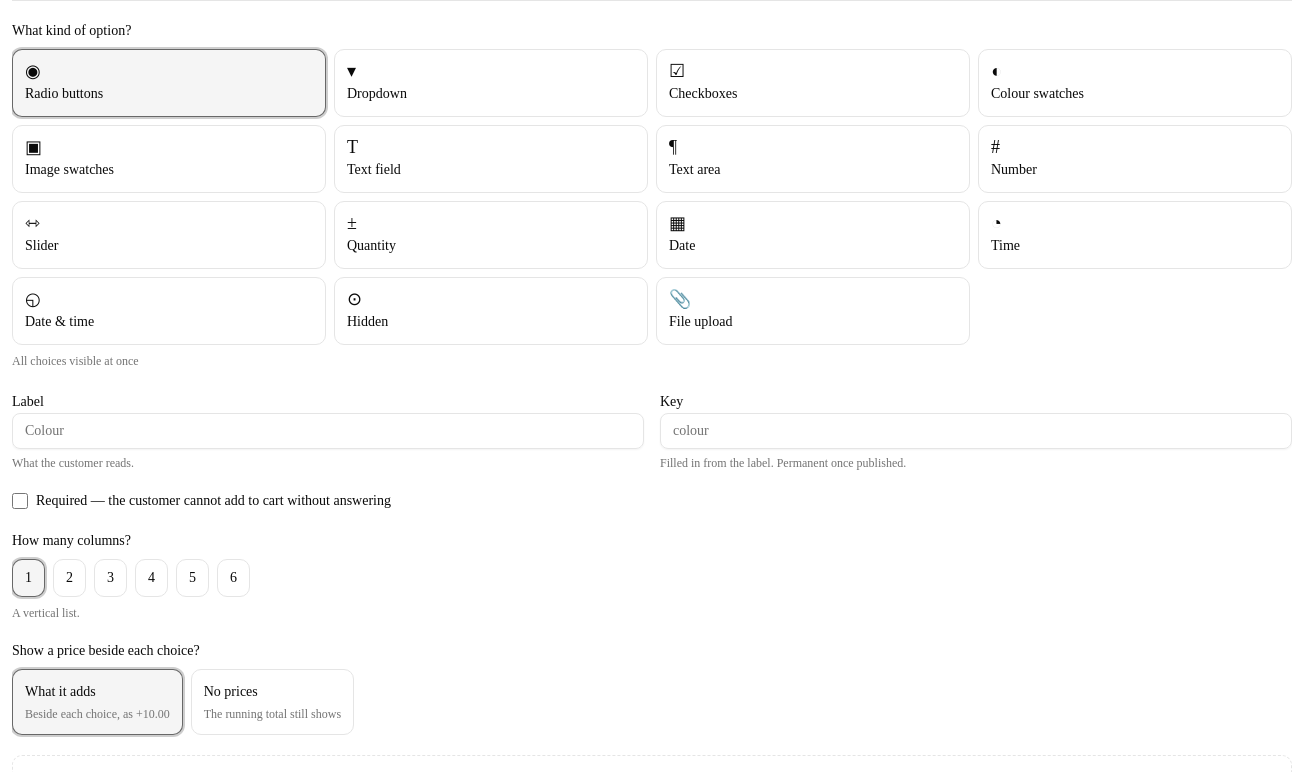
it: AddOption — contradictory length bounds › tells a merchant when the minimum cannot fit the maximum
The image size is (1304, 772).
Click the button "T Text field" at coordinates (374, 170), box [334, 125, 648, 193]
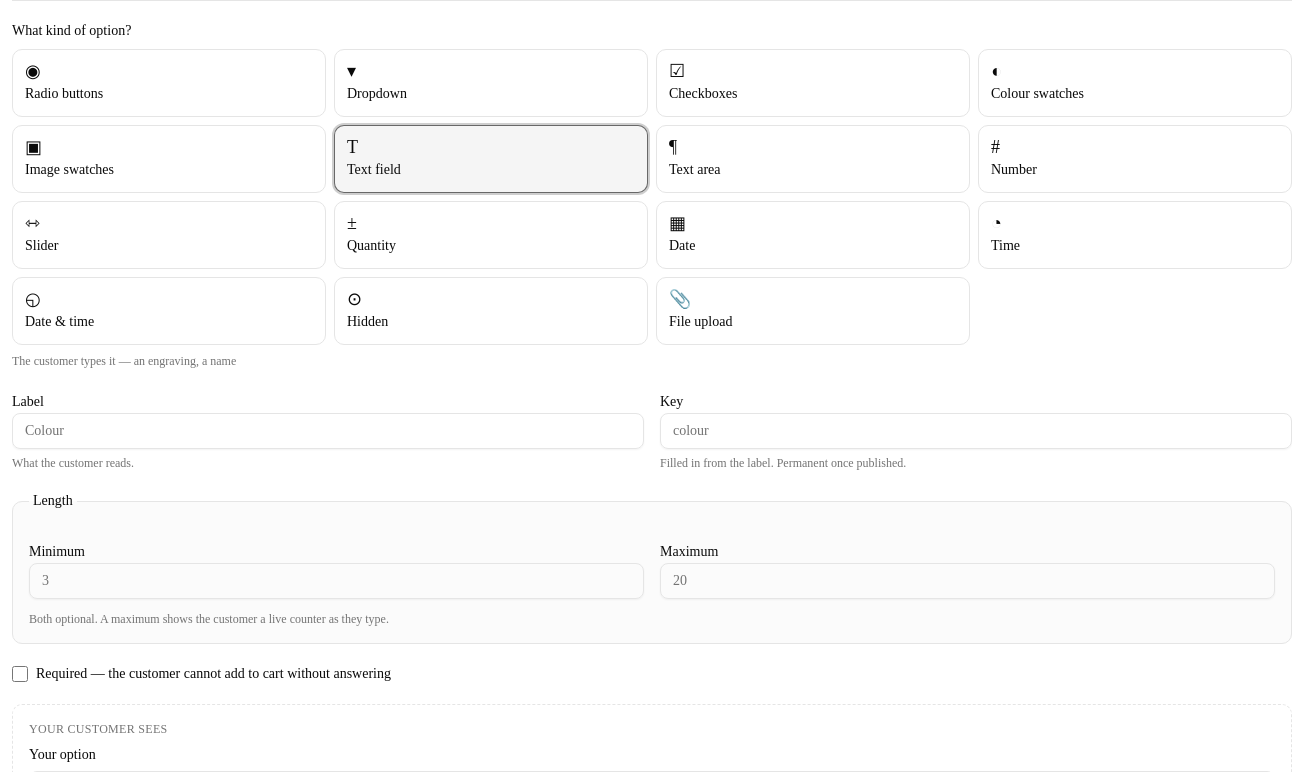
Type "50" into the number field labelled "Minimum" at coordinates (336, 581), box [29, 563, 644, 599]
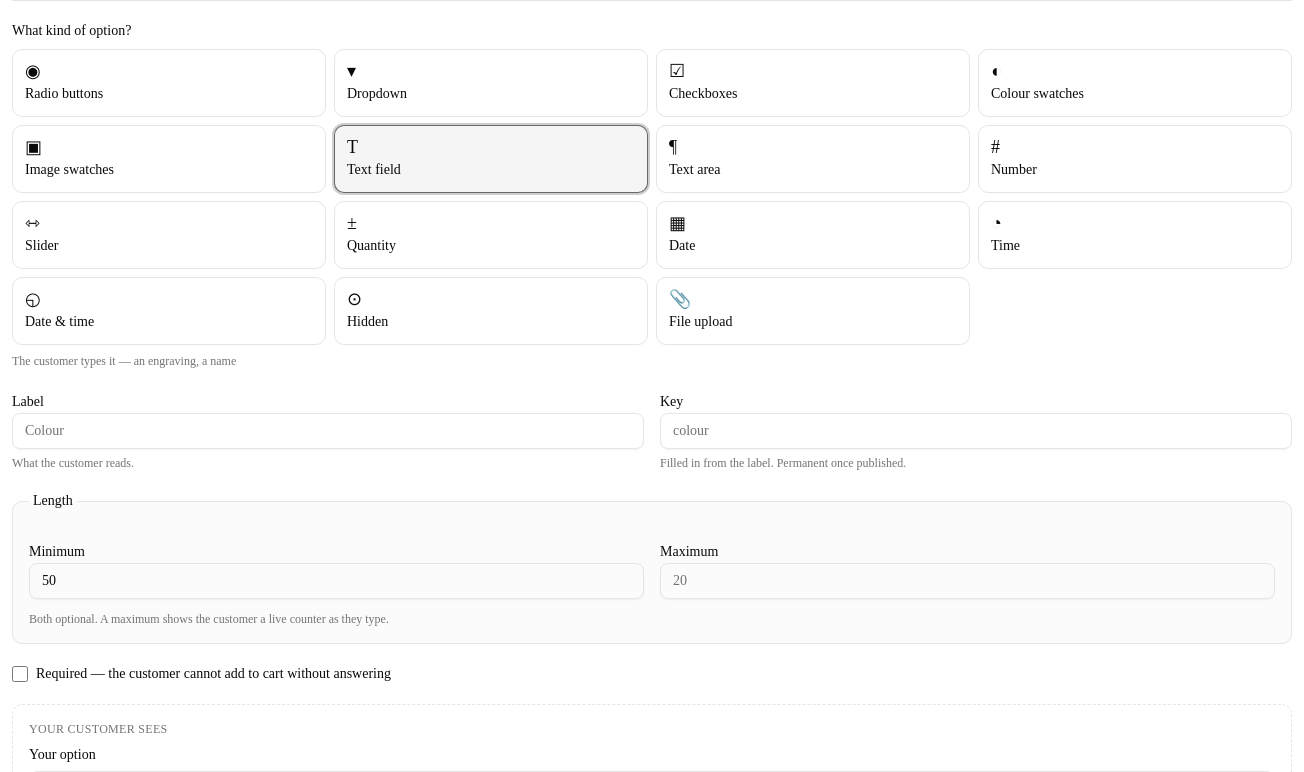
Type "10" into the number field labelled "Maximum" at coordinates (968, 581), box [660, 563, 1275, 599]
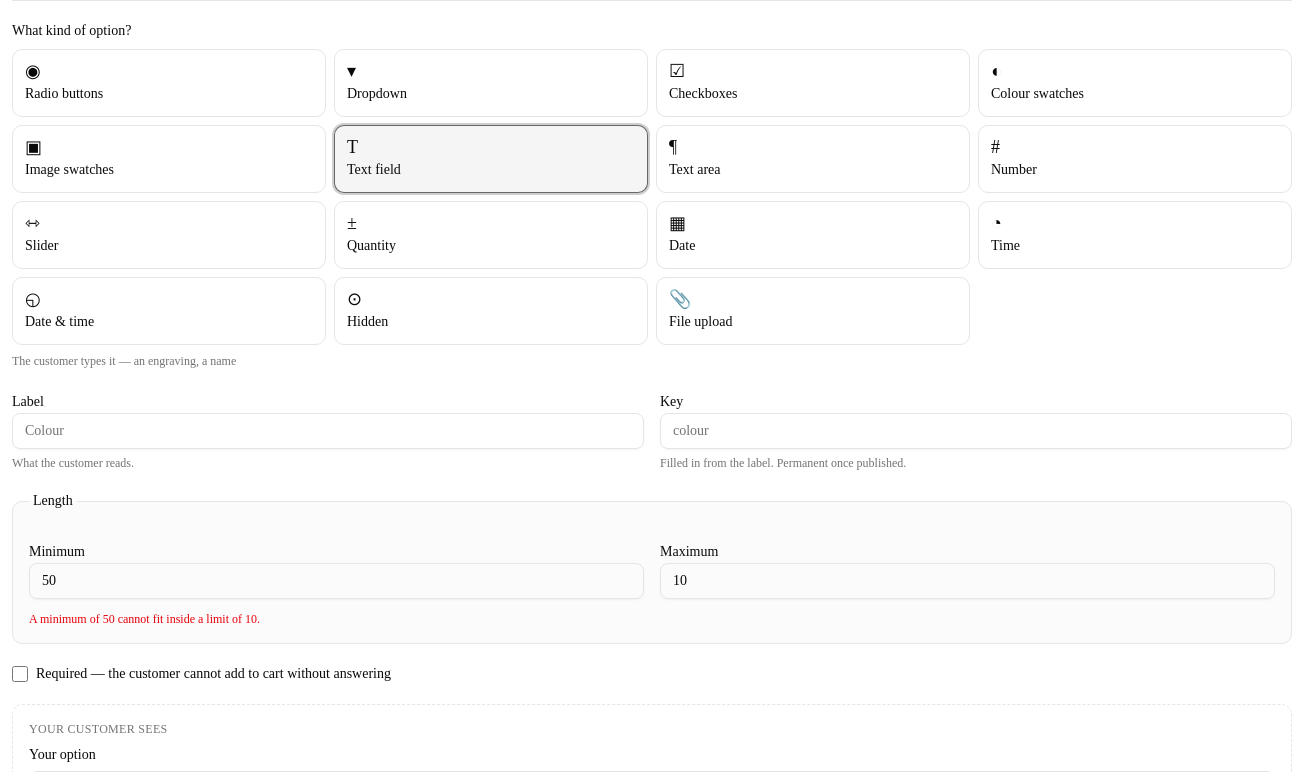
Check: the text "cannot fit inside a limit" is shown, box [29, 612, 260, 626]
